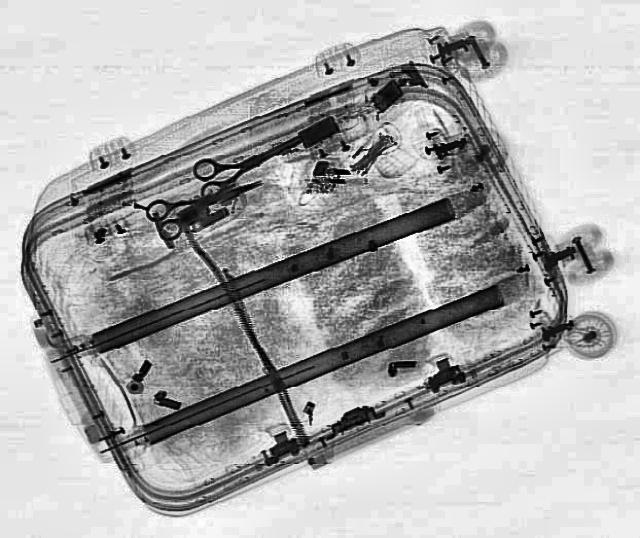Scissors: (176, 118, 314, 207), (138, 162, 268, 242)
